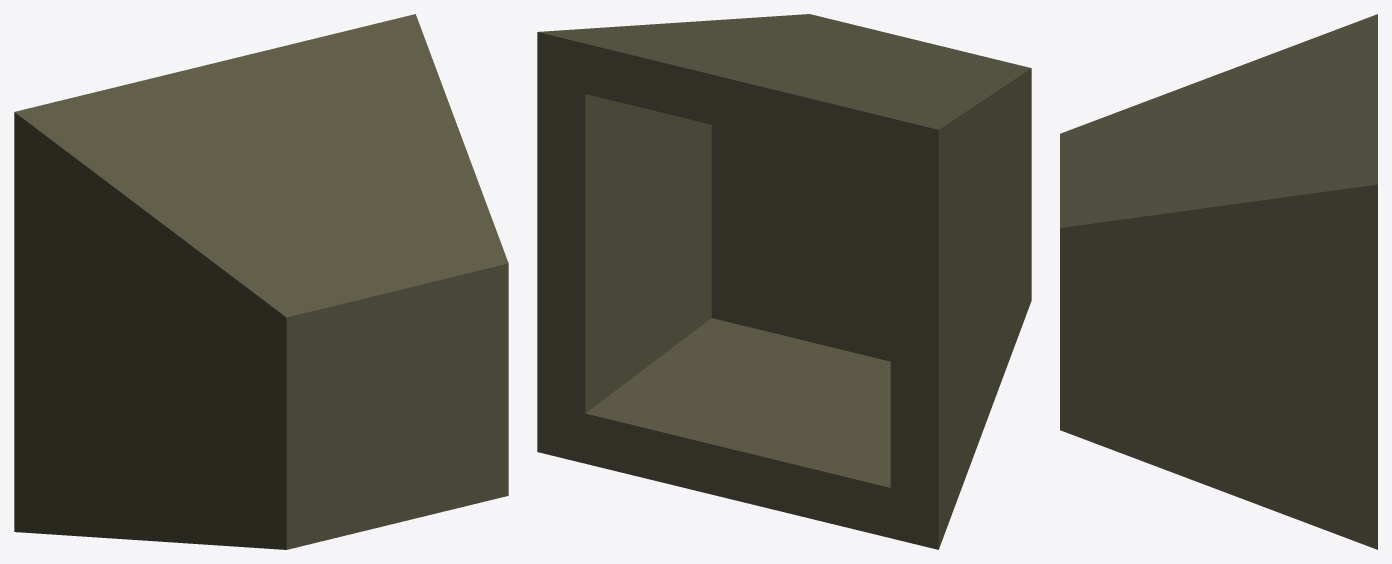
File: WarpHole.obj
3 renders of one model, left to right at view 1: azimuth 30°, elevation 25°; view 2: azimuth 150°, elevation 25°; view 3: azimuth 270°, elevation 25°, orthographic. The views are drawn at different scales.
Parts seen in each view (by area): view 1: Cube; view 2: Cube; view 3: Cube.
Boxes of the visible parts, x1,y1,x2,y2 form: Cube: (14,14,508,549); Cube: (537,14,1031,549); Cube: (1060,14,1377,549).
Bounding box in the file's own units: 2.54 × 2.54 × 2.
Materials: 1 (1 with a texture image).
